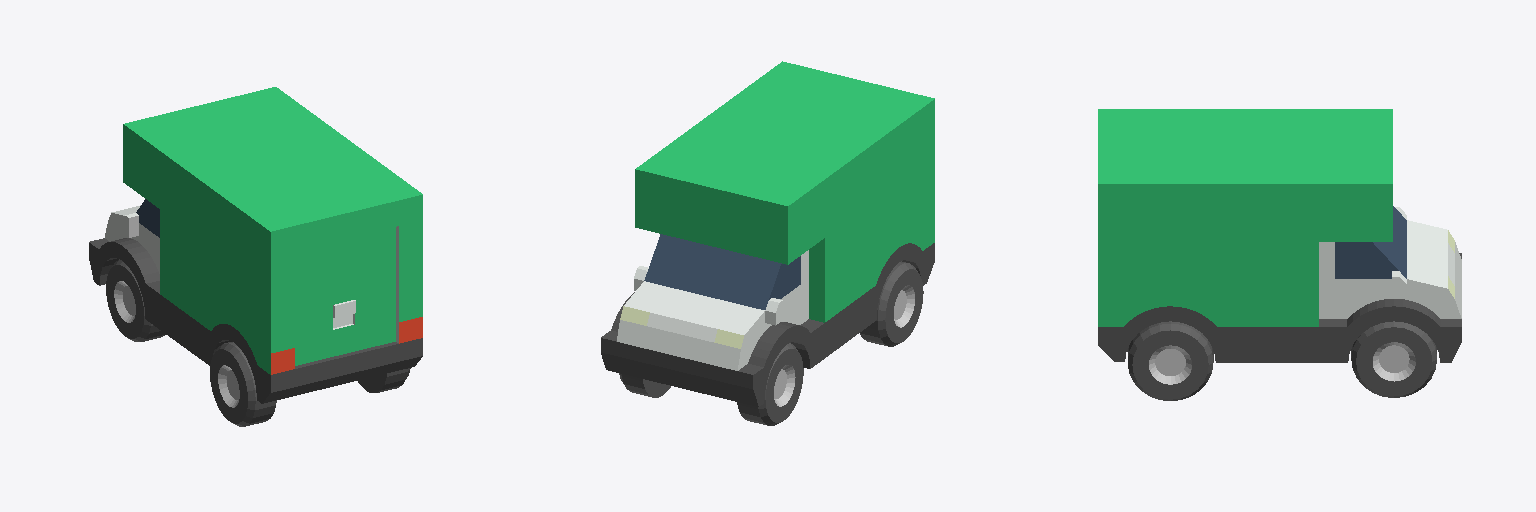
File: carDelivery.obj
The picture shows the model from 3 angles: view 1: azimuth 30°, elevation 25°; view 2: azimuth 150°, elevation 25°; view 3: azimuth 270°, elevation 25°; orthographic projection.
Parts seen in each view (by area): view 1: body 1, doorRight, doorLeft, wheelBackLeft 1, wheelFrontLeft 1, wheelBackRight 1; view 2: body 1, wheelBackLeft 1, wheelFrontLeft 1, wheelFrontRight 1; view 3: body 1, wheelBackRight 1, wheelFrontRight 1.
Part boxes in pixels (x1,y1,x2,y2): body 1: (89, 87, 422, 403); doorRight: (342, 227, 395, 353); doorLeft: (295, 240, 344, 365); wheelBackLeft 1: (210, 342, 276, 426); wheelFrontLeft 1: (106, 259, 165, 341); wheelBackRight 1: (358, 368, 410, 392); body 1: (601, 61, 934, 406); wheelBackLeft 1: (860, 261, 923, 346); wheelFrontLeft 1: (737, 343, 803, 425); wheelFrontRight 1: (619, 373, 670, 397); body 1: (1098, 109, 1461, 362); wheelBackRight 1: (1128, 321, 1213, 400); wheelFrontRight 1: (1351, 321, 1436, 397).
Bounding box in the file's own units: 9.84 × 12.59 × 18.96.